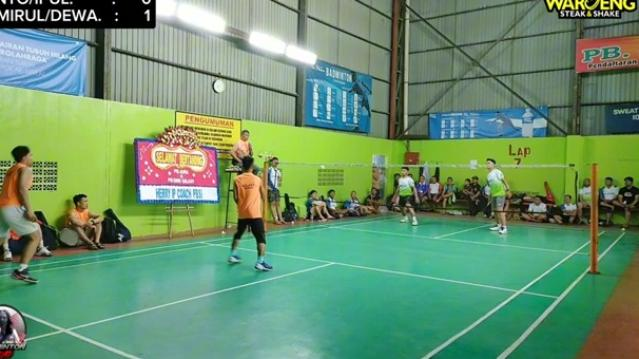Shuttlecock: (320, 164, 330, 172)
